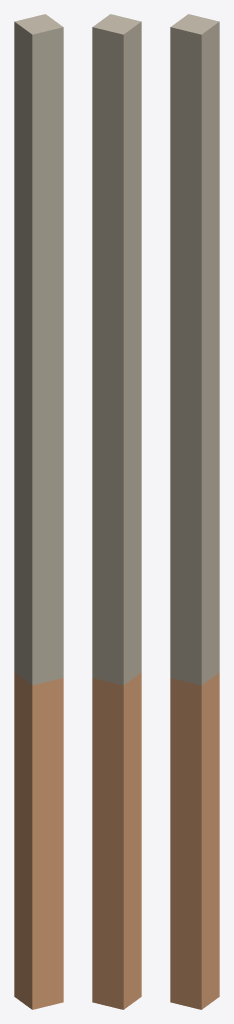
File: Mesh_Wall2Colors_C5.fbx
3 views of the same model, side by side, from view 1: azimuth 30°, elevation 25°; view 2: azimuth 150°, elevation 25°; view 3: azimuth 330°, elevation 25° (orthographic).
Parts seen in each view (by area): view 1: Mesh_Wall2Colors_C5; view 2: Mesh_Wall2Colors_C5; view 3: Mesh_Wall2Colors_C5.
Boxes of the visible parts, box(x1,y1,x2,y2) form: Mesh_Wall2Colors_C5: box(14, 14, 63, 1009); Mesh_Wall2Colors_C5: box(92, 14, 141, 1009); Mesh_Wall2Colors_C5: box(170, 14, 219, 1009).
Bounding box in the file's own units: 0.1 × 3 × 0.1.
